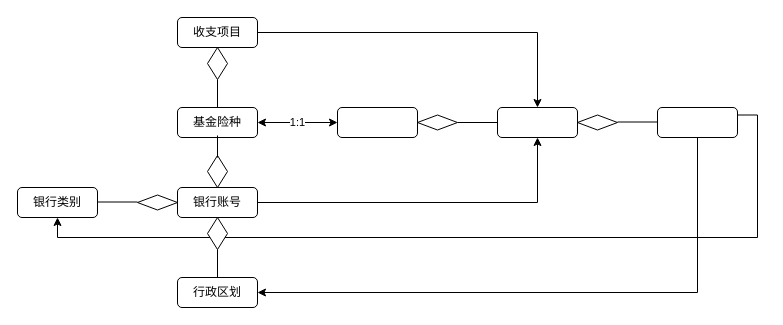
Image size: 783x325. Some labels were removed from this diagram. Here are the shapes that lost their labels. From the top down, the centre of each, then its label:
At (x=377, y=122): "帐套".
At (x=537, y=122): "会计科目".
At (x=697, y=122): "辅助核算".
